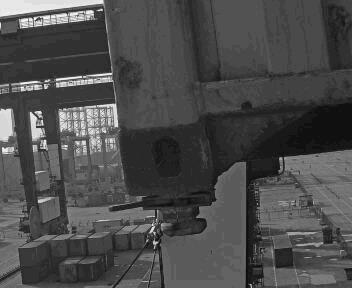twist_lock_1: (139, 186, 234, 238)
